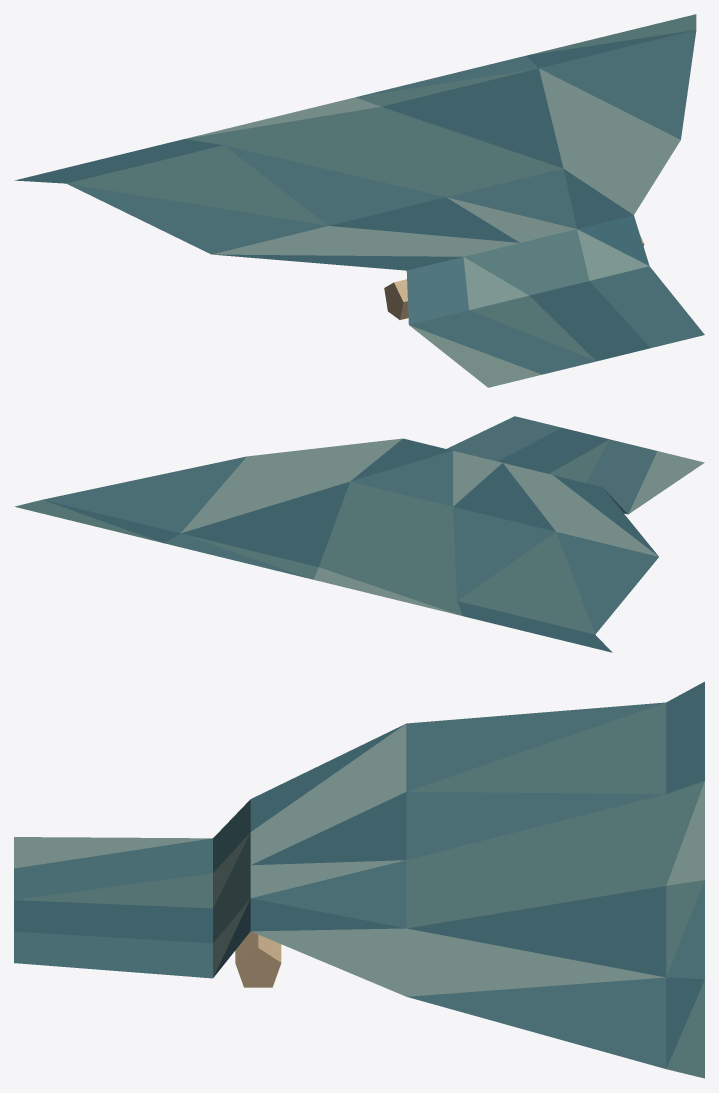
The model's file is pool-and-spillway.glb.
3 views of the same model, one above another, from view 1: azimuth 30°, elevation 25°; view 2: azimuth 150°, elevation 25°; view 3: azimuth 270°, elevation 25° (orthographic). The views are drawn at different scales.
Visible parts, largest first — view 1: Spring pool and sheet of falling water, Spillway sill; view 2: Spring pool and sheet of falling water; view 3: Spring pool and sheet of falling water, Spillway sill.
Boxes of the visible parts, left/top/right/bottom form: Spring pool and sheet of falling water: left=14, top=14, right=704, bottom=387; Spillway sill: left=384, top=235, right=644, bottom=319; Spring pool and sheet of falling water: left=15, top=416, right=704, bottom=652; Spring pool and sheet of falling water: left=14, top=681, right=704, bottom=1078; Spillway sill: left=235, top=931, right=281, bottom=987.
Bounding box in the file's own units: 8.5 × 0.538 × 6.25.
